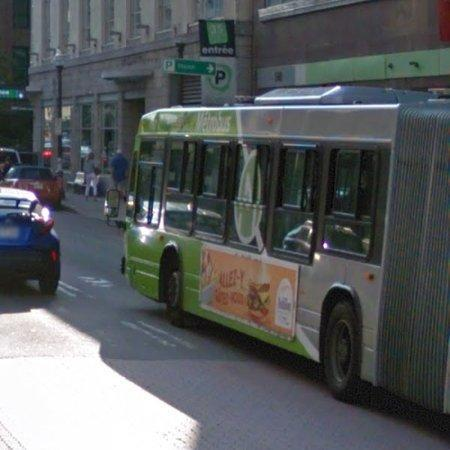buses: (122, 86, 450, 414)
